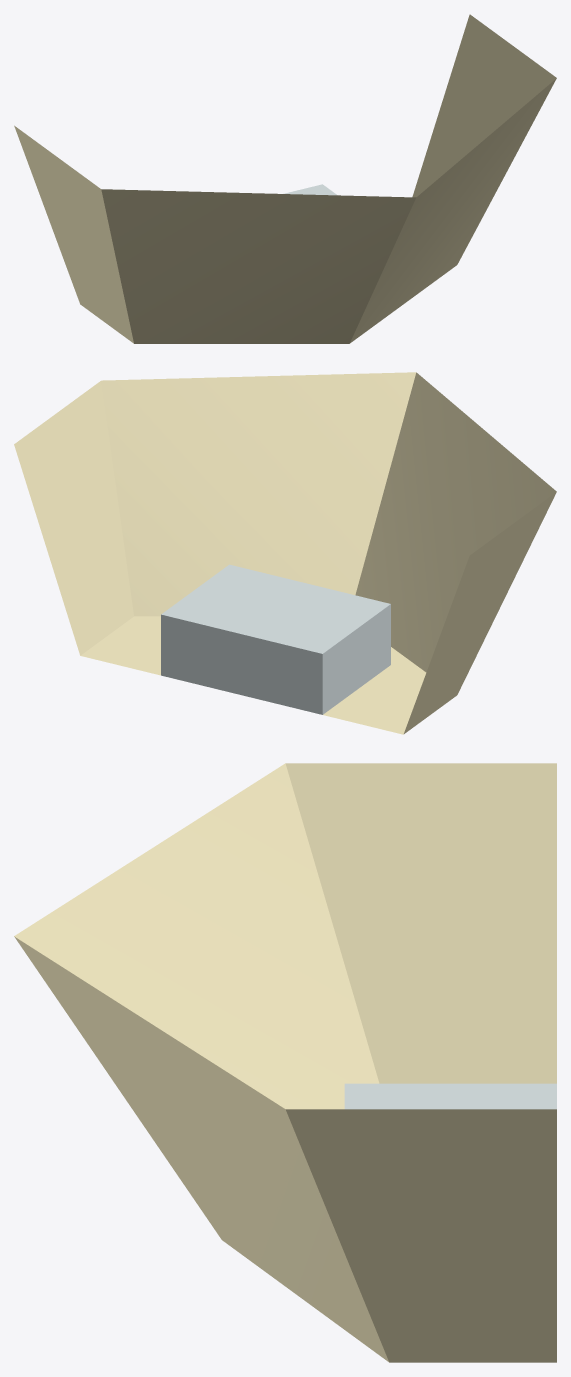
Rendered from lampWall.glb.
3 views of the same model, one above another, from view 1: azimuth 30°, elevation 25°; view 2: azimuth 150°, elevation 25°; view 3: azimuth 270°, elevation 25° (orthographic). The views are drawn at different scales.
Parts seen in each view (by area): view 1: lampWall(Clone); view 2: lampWall(Clone); view 3: lampWall(Clone).
Part boxes in pixels (left/top/right/bottom): lampWall(Clone): left=14, top=14, right=556, bottom=343; lampWall(Clone): left=14, top=372, right=556, bottom=734; lampWall(Clone): left=14, top=763, right=556, bottom=1362.
Bounding box in the file's own units: 0.4601 × 0.1884 × 0.3052.
2 materials, 2 textured.
